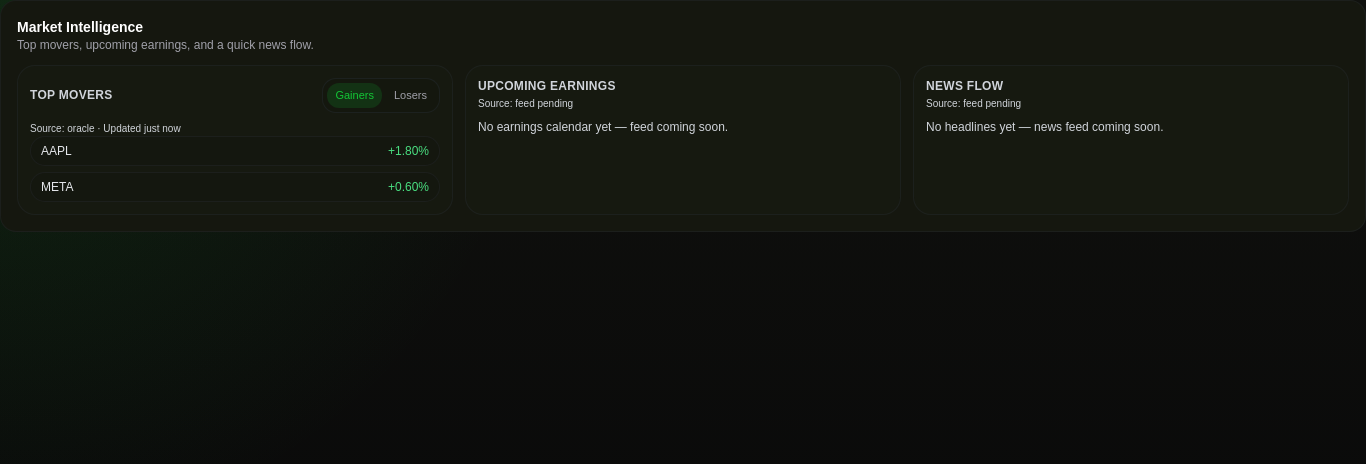
it: MarketIntelligencePanel › task 0028 — Top Movers honest source attribution › oracle live, both directions present → both tabs render their respective ranked lists
Check: the button named "AAPL+1.80%" is shown, box [30,136,440,166]
Click the button "Losers".
click(410, 95)  # box [386,83,435,108]
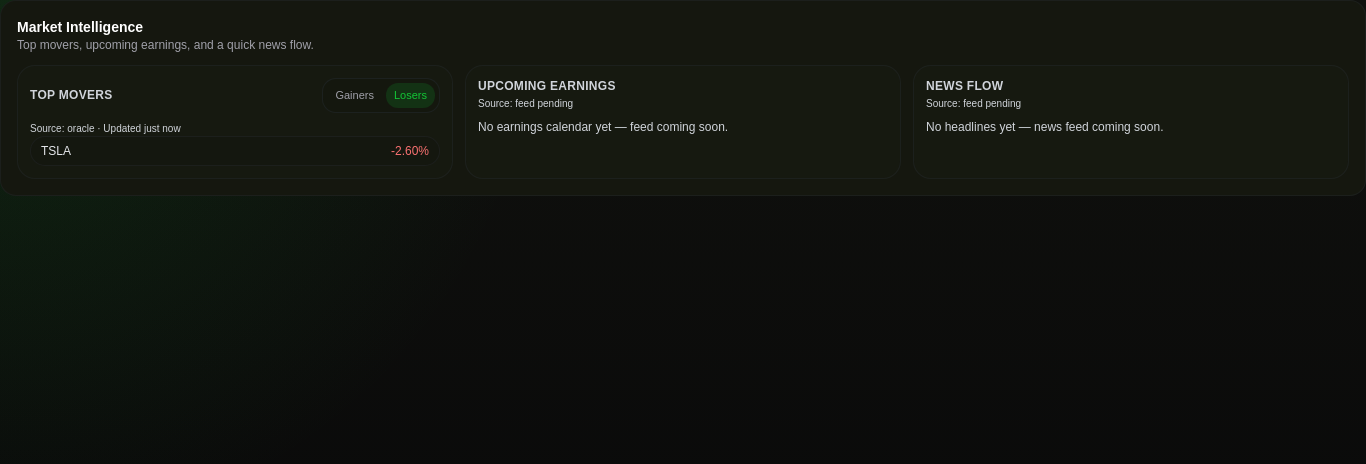
Check: the button named "TSLA-2.60%" is shown, box [30,136,440,166]
